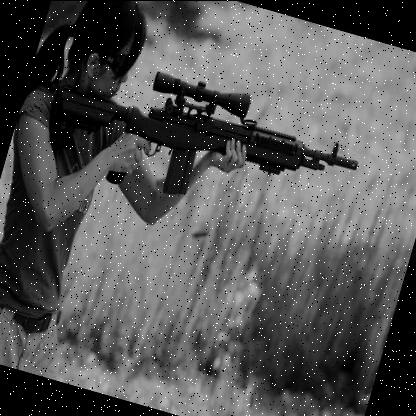rifle: (35, 36, 373, 244)
